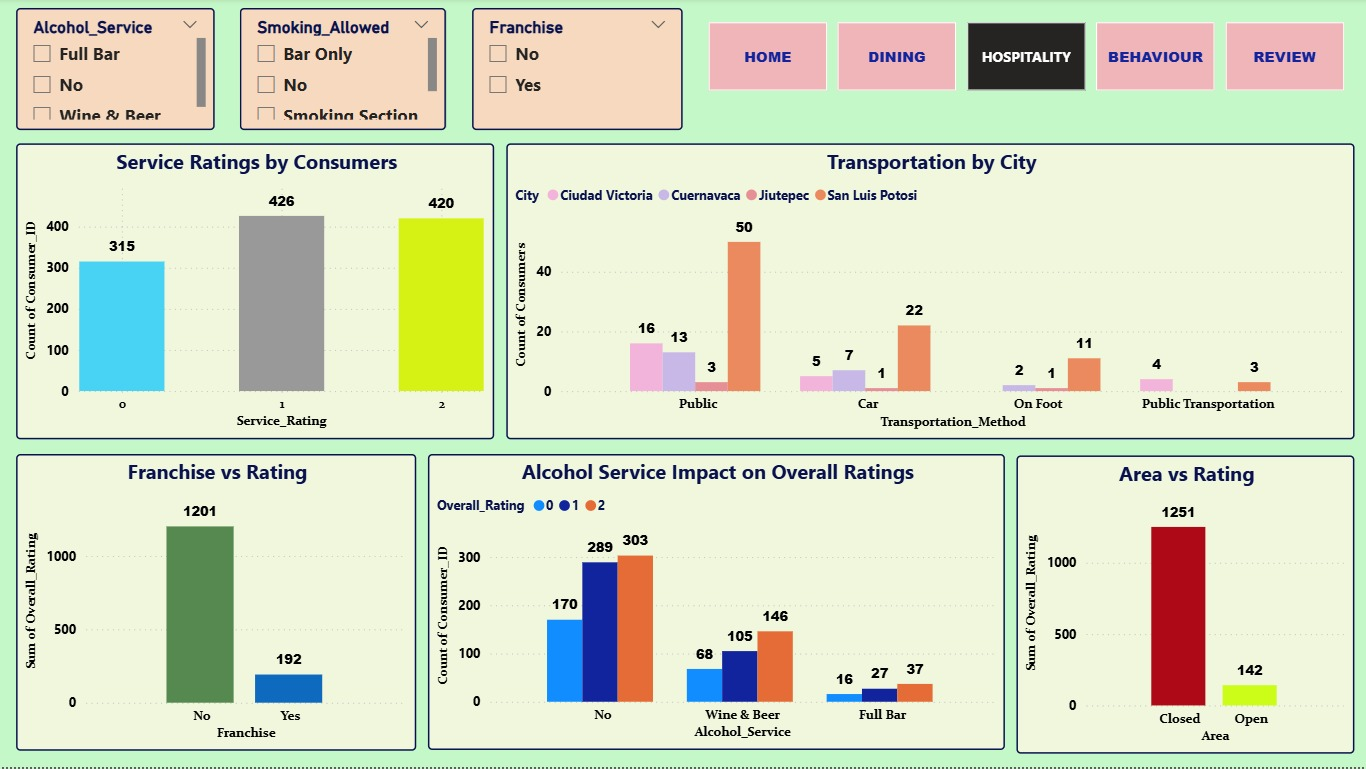

The page's visual inventory and layout, read from the dashboard file:
{"tool":"powerbi","page":{"name":"HOSPITALITY","canvas":[1280,720],"ordinal":2},"visuals":[{"type":"clusteredColumnChart","title":" Franchise vs Rating","fields":{"Category":["cleaned_restaurants_data.Franchise"],"Y":["Sum(ratings.Overall_Rating)"]},"box":[15.5,427.7,374.4,278.2],"z":0},{"type":"columnChart","title":" Area vs Rating","fields":{"Y":["Sum(ratings.Overall_Rating)"],"Category":["cleaned_restaurants_data.Area"]},"box":[953.1,428,316.2,279.5],"z":1000},{"type":"clusteredColumnChart","title":"Alcohol Service Impact on Overall Ratings","fields":{"Category":["cleaned_restaurants_data.Alcohol_Service"],"Y":["CountNonNull(ratings.Consumer_ID)"],"Series":["ratings.Overall_Rating"]},"box":[401.5,427.5,540.1,277.3],"z":2000},{"type":"columnChart","title":"Service Ratings by Consumers","fields":{"Category":["ratings.Service_Rating"],"Y":["CountNonNull(ratings.Consumer_ID)"]},"box":[15.9,135.7,447.7,277.3],"z":3000},{"type":"clusteredColumnChart","title":" Transportation by  City","fields":{"Category":["cleaned_consumers_data.Transportation_Method"],"Y":["CountNonNull(cleaned_consumers_data.Consumer_ID)"],"Series":["cleaned_consumers_data.City"]},"box":[475.1,135.7,794.3,277.3],"z":4000},{"type":"pageNavigator","box":[664.3,23.1,596.4,65],"z":5000},{"type":"slicer","fields":{"Values":["cleaned_restaurants_data.Franchise"]},"box":[442.9,10,197.1,114.3],"z":6000},{"type":"slicer","fields":{"Values":["cleaned_restaurants_data.Alcohol_Service"]},"box":[15.7,10,185.7,114.3],"z":7000},{"type":"slicer","fields":{"Values":["cleaned_restaurants_data.Smoking_Allowed"]},"box":[225.7,10,192.9,114.3],"z":8000}]}

Visuals, with their boxes in screenshot pixels (x1, y1, x2, y2), scaled from the page's 1280x720 canvas onto the 1366x769 screenshot:
" Franchise vs Rating" clusteredColumnChart: locate(17, 457, 416, 754)
" Area vs Rating" columnChart: locate(1017, 457, 1355, 756)
"Alcohol Service Impact on Overall Ratings" clusteredColumnChart: locate(428, 457, 1005, 753)
"Service Ratings by Consumers" columnChart: locate(17, 145, 495, 441)
" Transportation by  City" clusteredColumnChart: locate(507, 145, 1355, 441)
pageNavigator: locate(709, 25, 1345, 94)
slicer - cleaned_restaurants_data.Franchise: locate(473, 11, 683, 133)
slicer - cleaned_restaurants_data.Alcohol_Service: locate(17, 11, 215, 133)
slicer - cleaned_restaurants_data.Smoking_Allowed: locate(241, 11, 447, 133)
